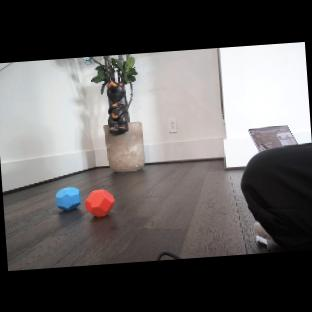V5_BLUE: (55, 186, 81, 211)
V5_RED: (83, 188, 116, 218)
